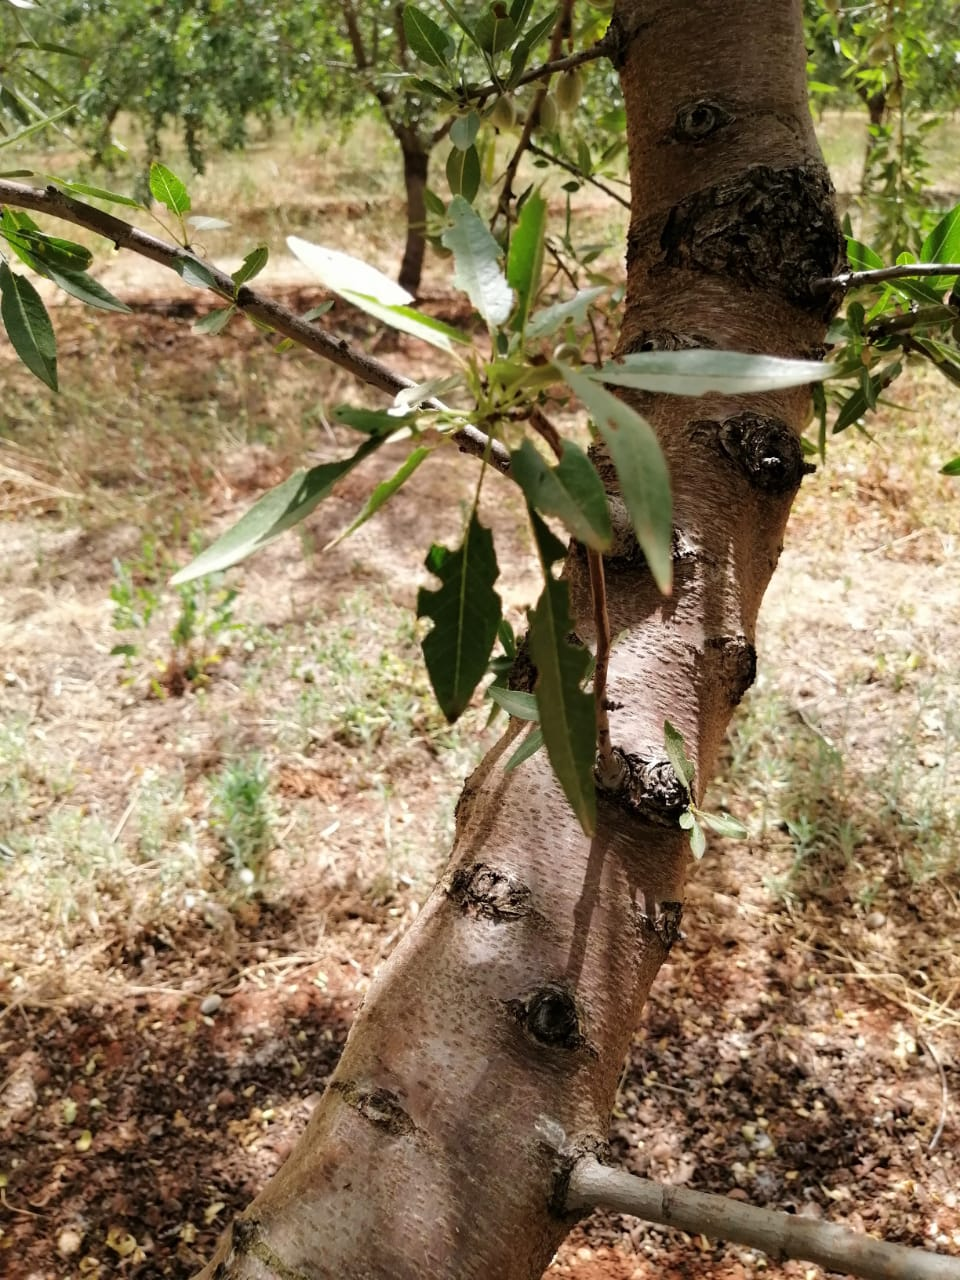othyorinques: (415, 518, 503, 735), (526, 569, 595, 838), (510, 431, 613, 549), (438, 194, 513, 334)
